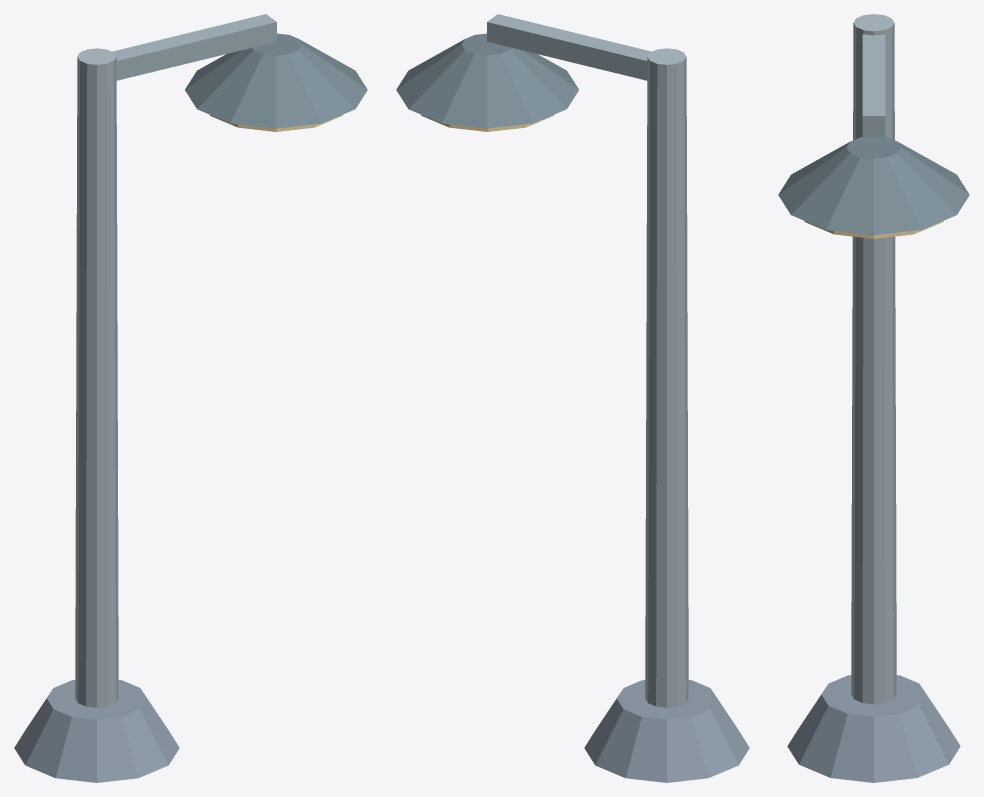
The model's file is warlike-lamp-3d.gltf.
The picture shows the model from 3 angles, left to right: view 1: azimuth 30°, elevation 25°; view 2: azimuth 150°, elevation 25°; view 3: azimuth 270°, elevation 25°; orthographic projection. The views are drawn at different scales.
Visible parts, largest first — view 1: Part 1, Part 3, Part 0, Part 2; view 2: Part 1, Part 3, Part 0, Part 2; view 3: Part 1, Part 3, Part 0, Part 2, Part 4.
Boxes of the visible parts, box(x1,y1,x2,y2) form: Part 1: box(75, 48, 118, 707); Part 3: box(185, 33, 367, 128); Part 0: box(14, 680, 179, 782); Part 2: box(112, 14, 276, 80); Part 1: box(645, 48, 688, 707); Part 3: box(396, 33, 578, 128); Part 0: box(584, 680, 749, 782); Part 2: box(487, 14, 651, 80); Part 1: box(851, 14, 896, 704); Part 3: box(778, 136, 969, 235); Part 0: box(787, 675, 960, 782); Part 2: box(862, 34, 885, 136); Part 4: box(804, 221, 943, 238).
Bounding box in the file's own units: 1.75 × 3.5 × 0.84.
